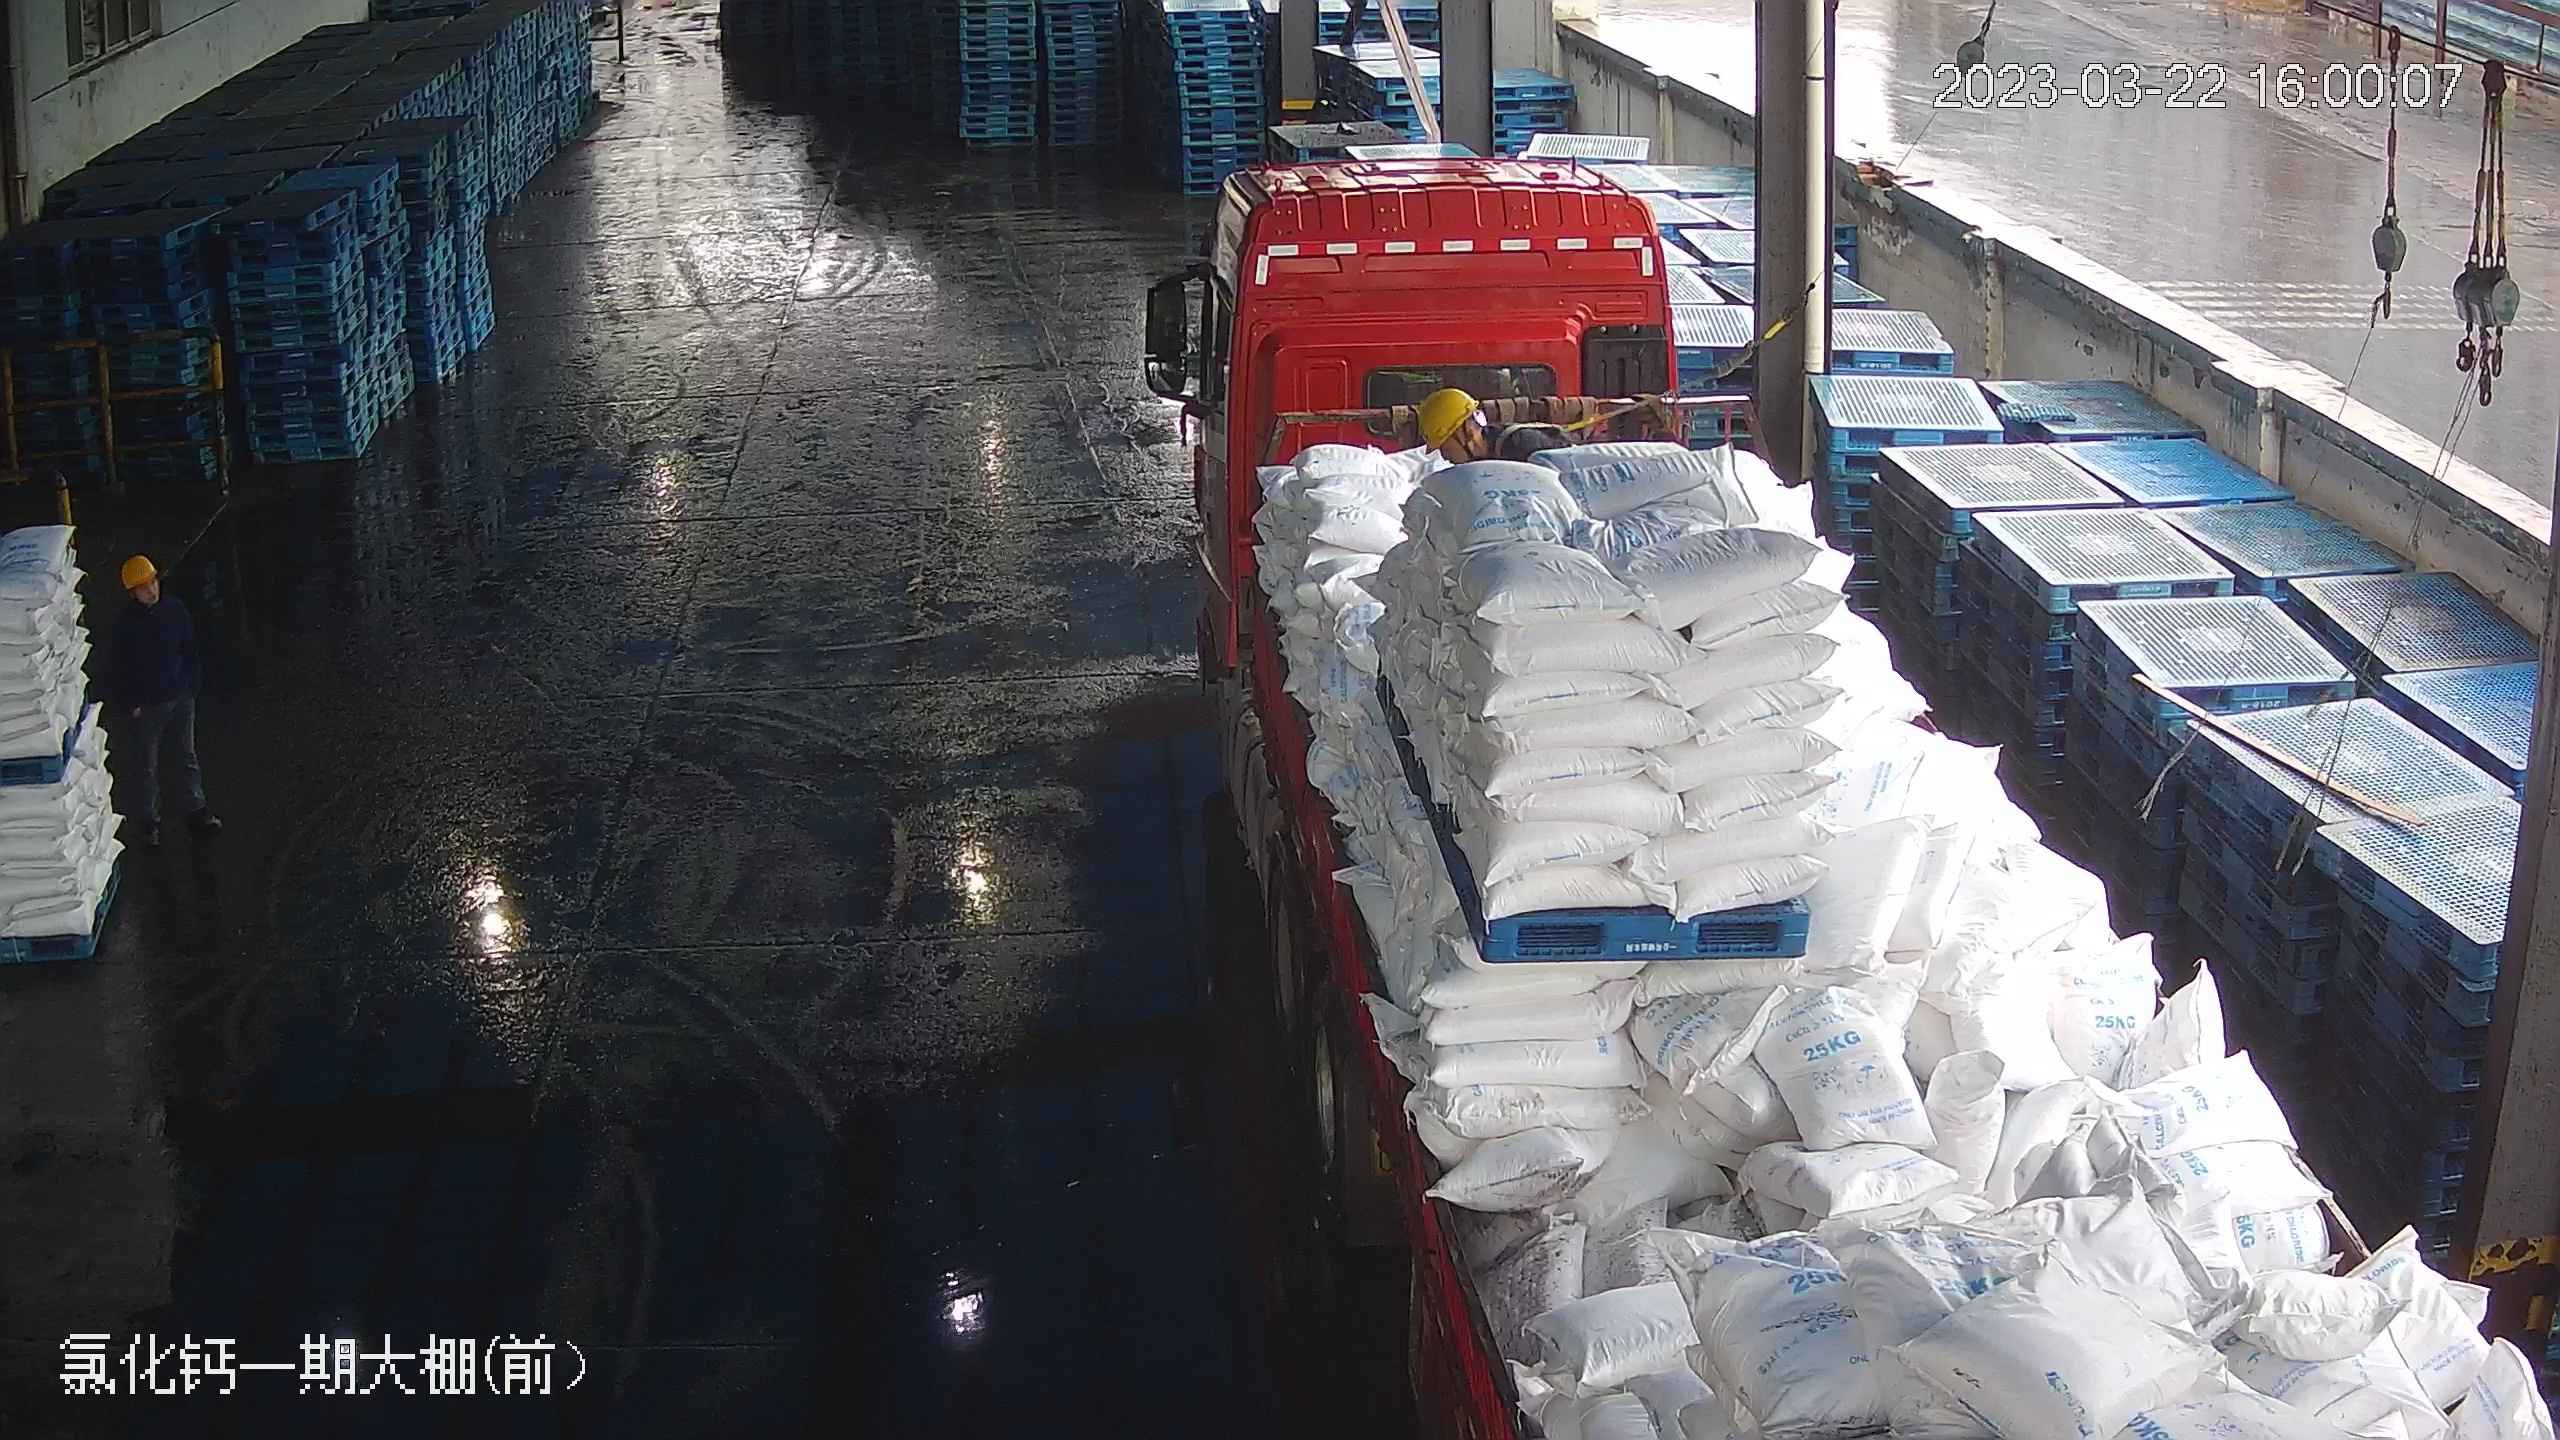belt: (1496, 410, 1590, 448)
head: (1412, 384, 1528, 461), (107, 553, 190, 647)
helmet: (1416, 383, 1478, 450), (119, 553, 159, 588)
people: (103, 549, 219, 841)
truck: (1164, 145, 2526, 1440)
